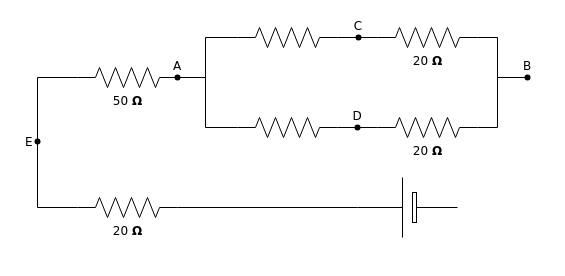
Image size: 565x276. Some labels were removed from this diagram. Each missing label, with the centre of its shape:
"220 V" belongs at (407,207).
"40 Ω" belongs at (287,37).
"70 Ω" belongs at (287,127).
